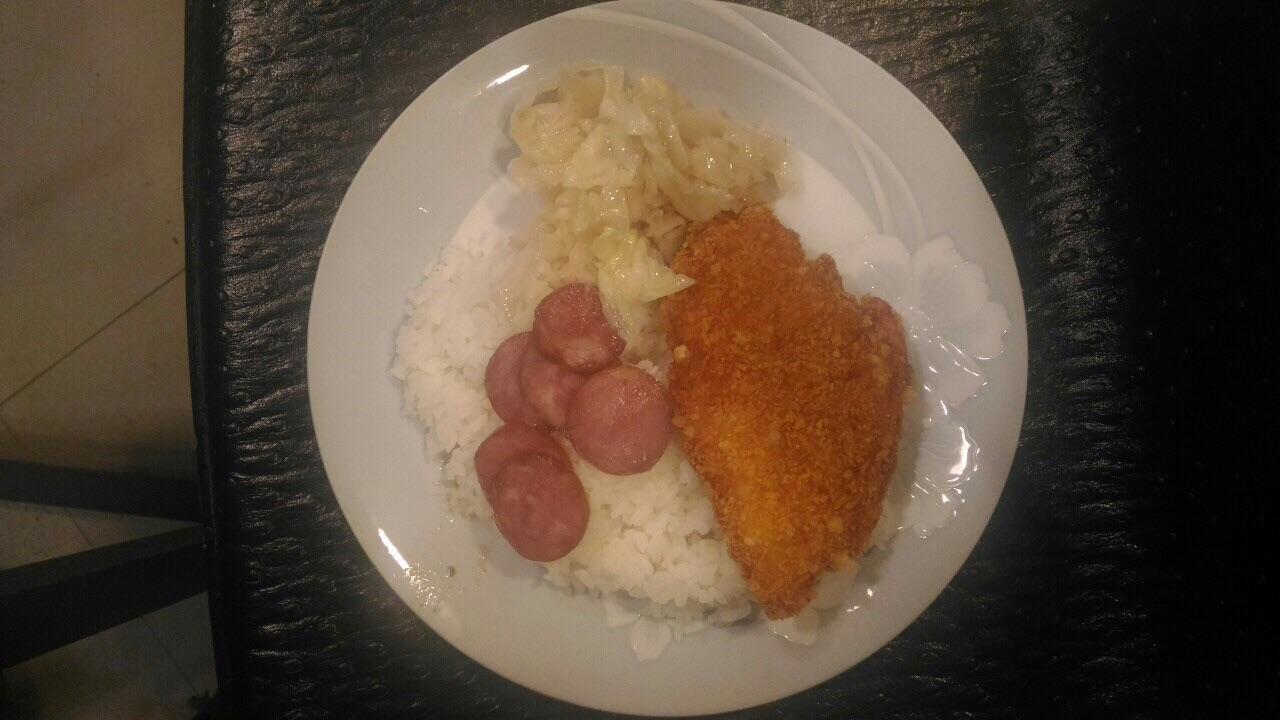chinese_cabbage: (508, 70, 794, 282)
chinese_sausage: (475, 287, 674, 560)
fried_chicken: (670, 205, 908, 619)
rice: (391, 232, 507, 466), (590, 470, 736, 610)
